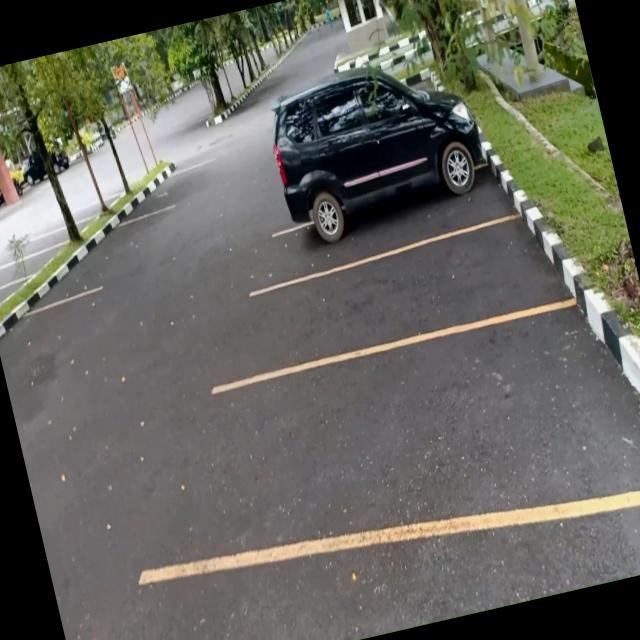car: (241, 66, 526, 280)
free: (151, 275, 640, 591), (244, 207, 585, 378), (68, 210, 181, 294), (136, 162, 212, 212), (0, 250, 57, 292), (12, 226, 74, 258)
